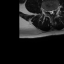CCS_severe_stenosis: (50, 8, 52, 16)
LFS_stenosis: (53, 7, 55, 12)
LLS_normal: (52, 8, 53, 14)
RFS_severe_stenosis: (46, 8, 48, 13)
RLS_normal: (49, 9, 50, 14)
